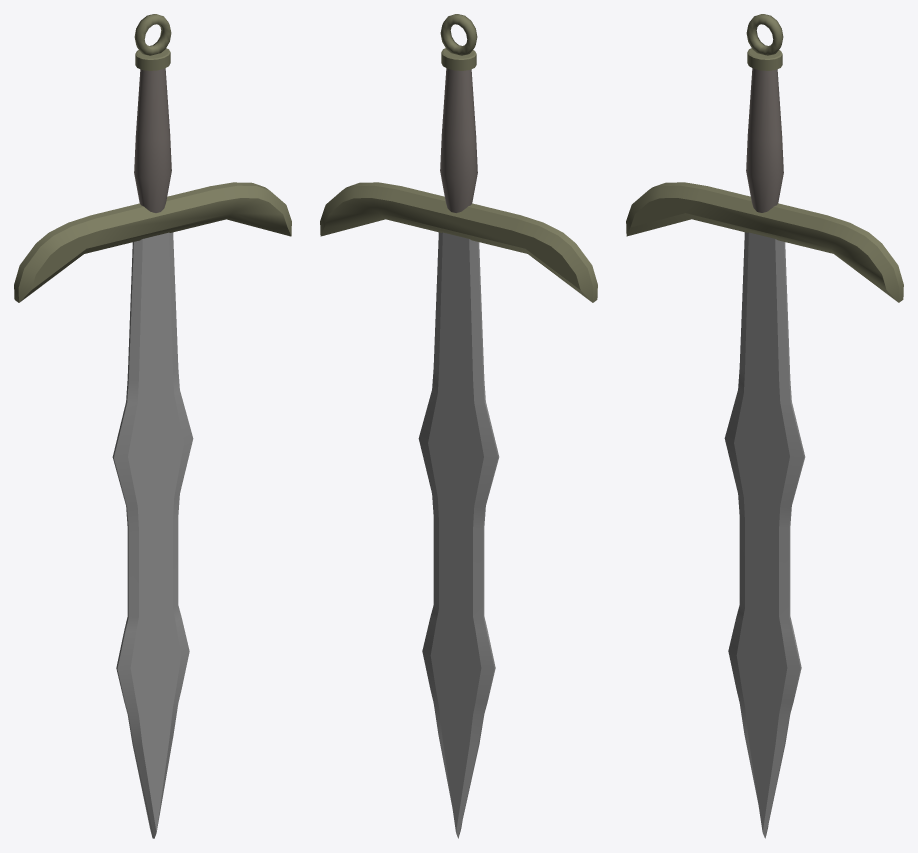
The model's file is Espada_Modelo3.fbx.
The picture shows the model from 3 angles, left to right: view 1: azimuth 30°, elevation 25°; view 2: azimuth 150°, elevation 25°; view 3: azimuth 330°, elevation 25°; orthographic projection.
Visible parts, largest first — view 1: Espada_Modelo3; view 2: Espada_Modelo3; view 3: Espada_Modelo3.
Boxes of the visible parts, box(x1,y1,x2,y2) form: Espada_Modelo3: box(14, 14, 291, 838); Espada_Modelo3: box(320, 14, 597, 838); Espada_Modelo3: box(626, 14, 903, 838).
Bounding box in the file's own units: 0.5451 × 1.57 × 0.0571.
